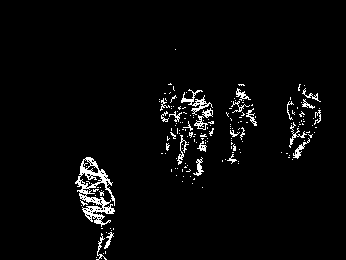person: (73, 154, 115, 260), (223, 82, 260, 167), (190, 88, 214, 179), (294, 91, 321, 159), (173, 87, 195, 167), (159, 82, 180, 155), (287, 79, 307, 149)
